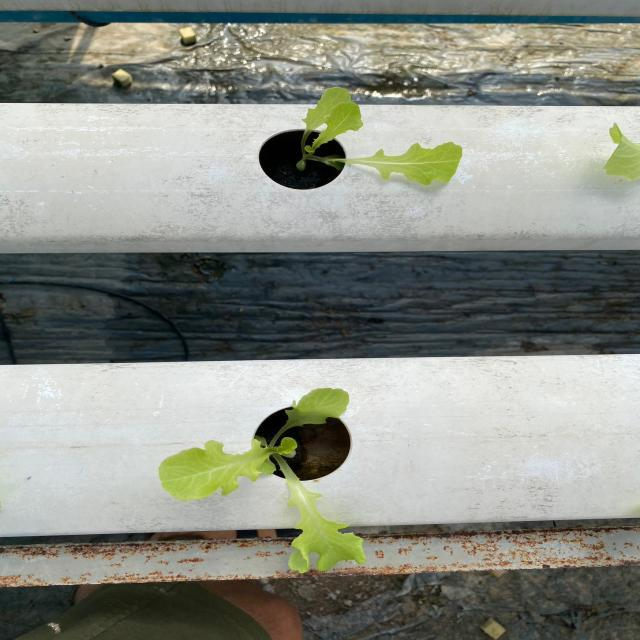Lettuce-Not-Ready-to-Harvest: (159, 389, 365, 572), (296, 88, 461, 184), (604, 124, 640, 179)
